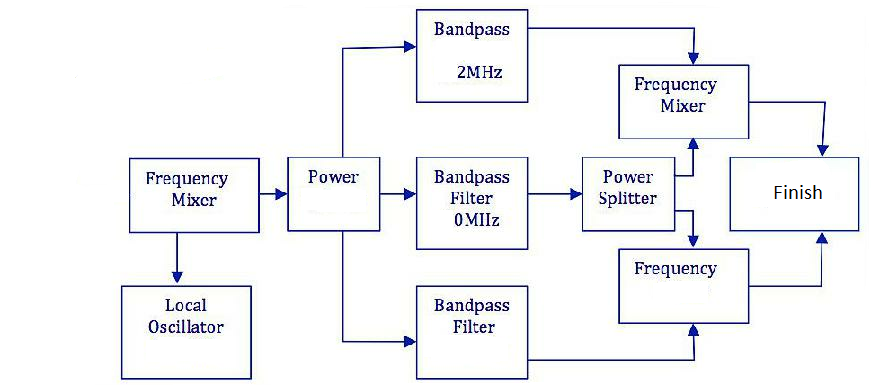arrow: (337, 231, 420, 348), (337, 38, 415, 155), (528, 23, 700, 67), (528, 322, 700, 364), (745, 232, 829, 291), (750, 98, 831, 156), (671, 135, 700, 180), (673, 206, 701, 248), (529, 185, 582, 202), (169, 232, 184, 282), (379, 186, 415, 202), (260, 187, 289, 201)
process: (116, 281, 256, 383), (412, 282, 532, 383), (413, 154, 532, 254), (125, 154, 264, 239), (413, 7, 531, 106), (615, 245, 754, 328), (726, 154, 863, 235), (615, 68, 755, 142), (578, 155, 679, 236), (285, 154, 384, 235)
text: (431, 165, 515, 230), (430, 17, 511, 82), (141, 166, 229, 213), (630, 72, 721, 116), (145, 295, 226, 339), (429, 295, 510, 336), (594, 168, 659, 208), (631, 257, 721, 279), (769, 181, 825, 204), (306, 167, 361, 188)
